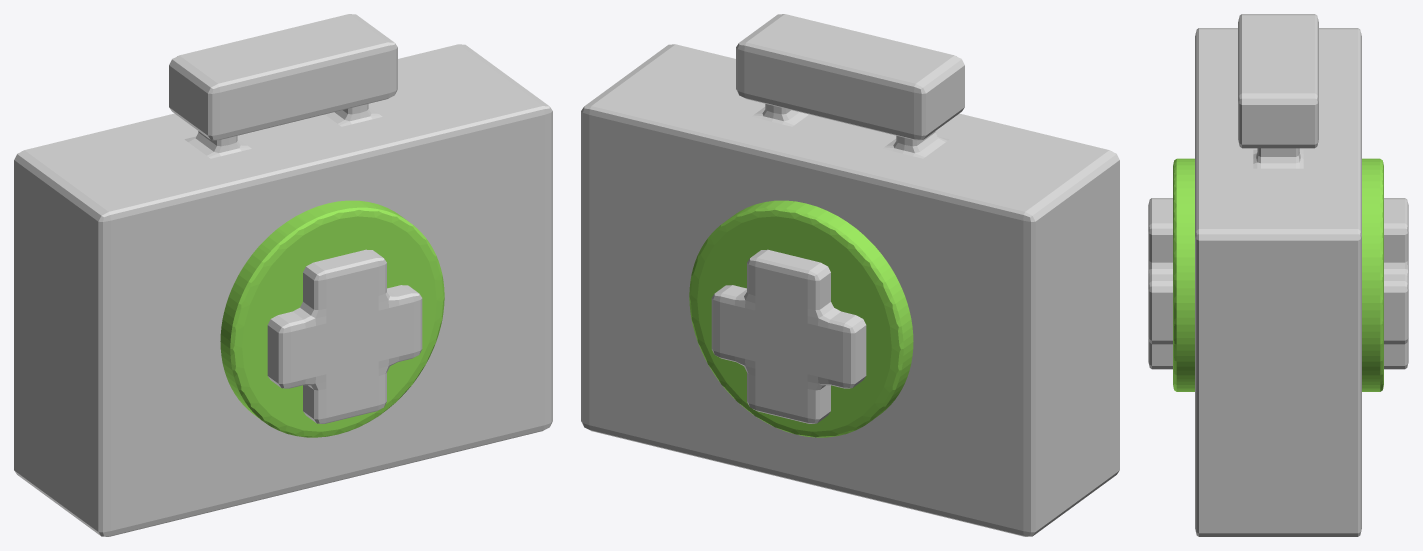
The model's file is curacion.fbx.
3 renders of one model, left to right at view 1: azimuth 30°, elevation 25°; view 2: azimuth 150°, elevation 25°; view 3: azimuth 270°, elevation 25°, orthographic. The views are drawn at different scales.
Parts seen in each view (by area): view 1: curacion; view 2: curacion; view 3: curacion.
Part boxes in pixels (x1,y1,x2,y2): curacion: (14,14,552,536); curacion: (581,14,1119,536); curacion: (1148,14,1408,536).
Bounding box in the file's own units: 264 × 225 × 139.
